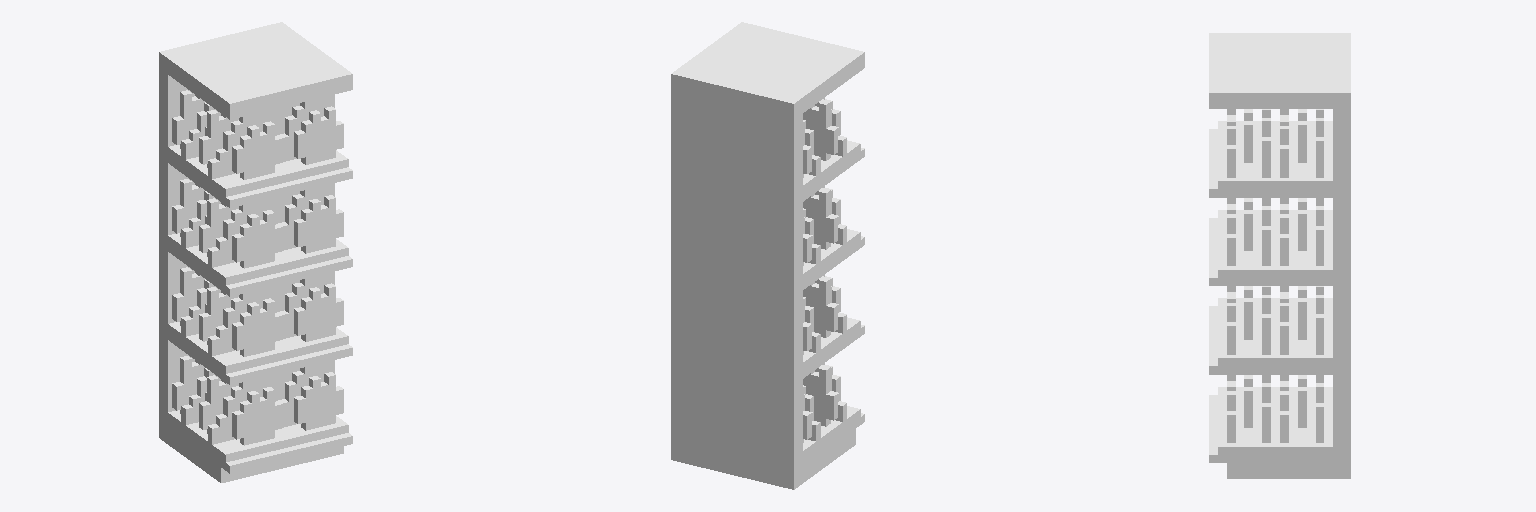
File: fullVeggiesShelf.obj
The picture shows the model from 3 angles: view 1: azimuth 30°, elevation 25°; view 2: azimuth 150°, elevation 25°; view 3: azimuth 270°, elevation 25°; orthographic projection.
Parts seen in each view (by area): view 1: object 1; view 2: object 1; view 3: object 1.
Boxes of the visible parts, x1=… form: object 1: x1=159, y1=22, x2=352, y2=482; object 1: x1=671, y1=22, x2=864, y2=489; object 1: x1=1209, y1=33, x2=1350, y2=478.
Bounding box in the file's own units: 1.6 × 4.8 × 1.6.